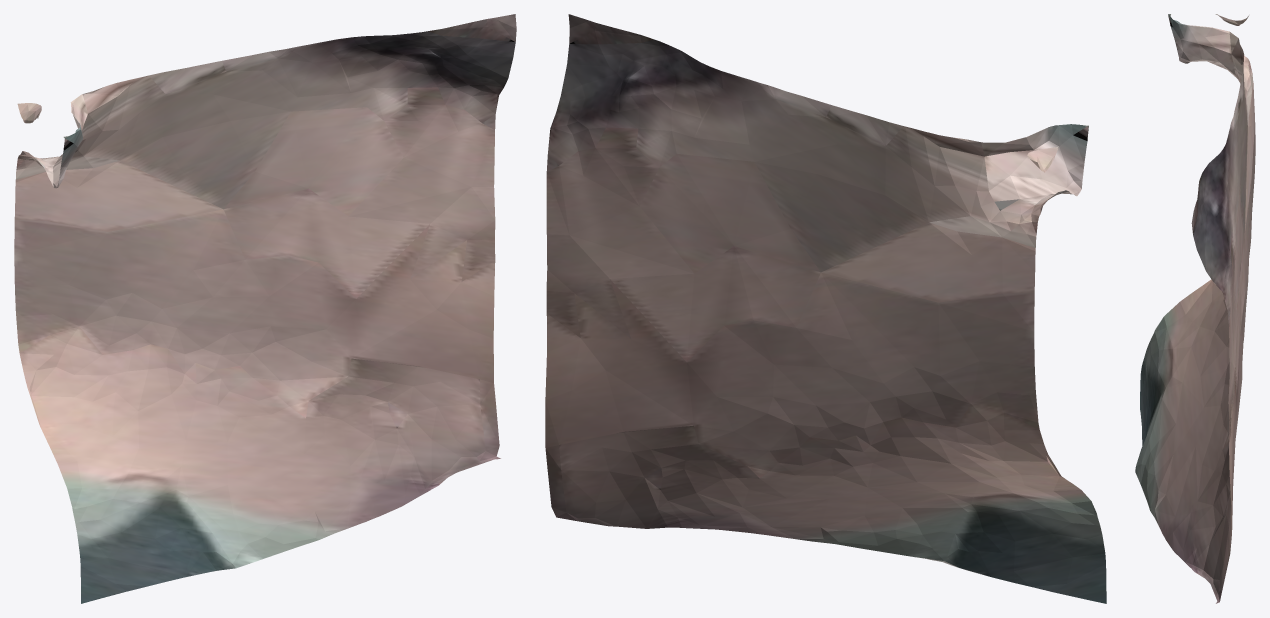
The model's file is tile_15_8.obj.
3 renders of one model, left to right at view 1: azimuth 30°, elevation 25°; view 2: azimuth 150°, elevation 25°; view 3: azimuth 270°, elevation 25°, orthographic. The views are drawn at different scales.
Parts seen in each view (by area): view 1: texture_0; view 2: texture_0; view 3: texture_0.
Part boxes in pixels (x1=…): texture_0: x1=14, y1=14, x2=516, y2=603; texture_0: x1=545, y1=14, x2=1106, y2=603; texture_0: x1=1135, y1=14, x2=1255, y2=603.
Size of the model in its own units: 13.88 by 12.92 by 3.59.
Materials: 1 (1 with a texture image).
